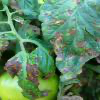Tomato Early blight leaf: (38, 1, 97, 81), (5, 51, 47, 99), (35, 46, 59, 82)
